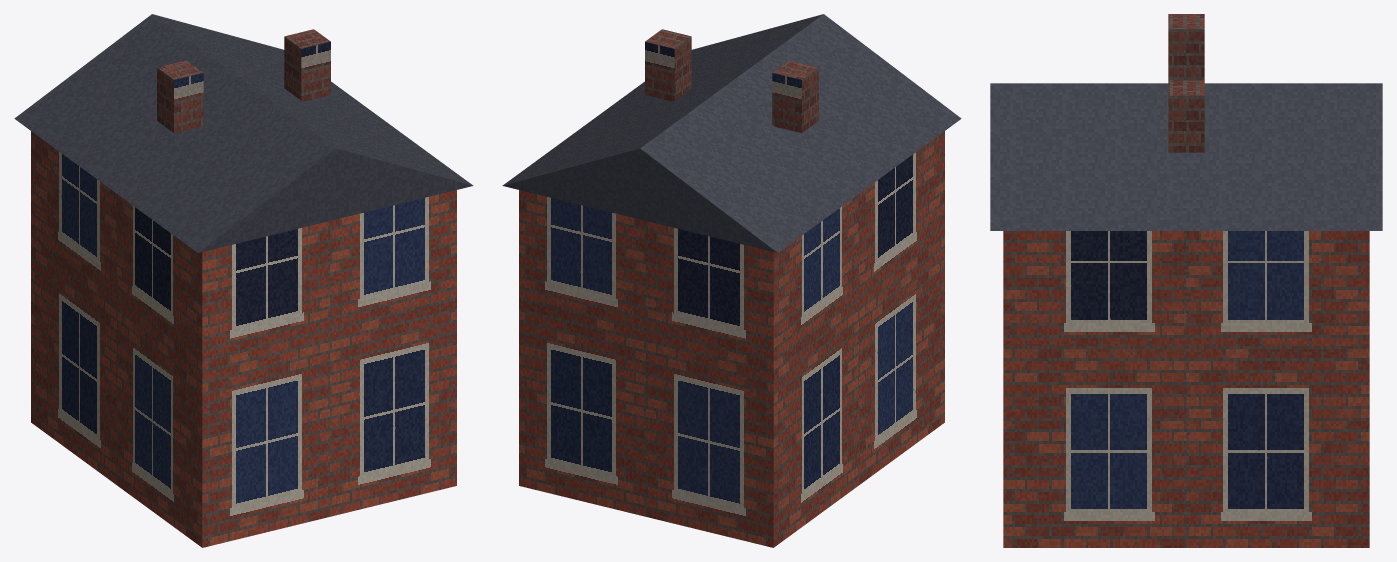
File: env_terrace_a.glb
3 renders of one model, left to right at view 1: azimuth 30°, elevation 25°; view 2: azimuth 150°, elevation 25°; view 3: azimuth 270°, elevation 25°, orthographic. The views are drawn at different scales.
Visible parts, largest first — view 1: env_terrace_a; view 2: env_terrace_a; view 3: env_terrace_a.
Boxes of the visible parts, x1=… form: env_terrace_a: x1=14, y1=14, x2=473, y2=547; env_terrace_a: x1=502, y1=14, x2=961, y2=547; env_terrace_a: x1=990, y1=14, x2=1382, y2=547.
Bounding box in the file's own units: 6.5 × 9 × 7.5.
Materials: 3 (3 with a texture image).
